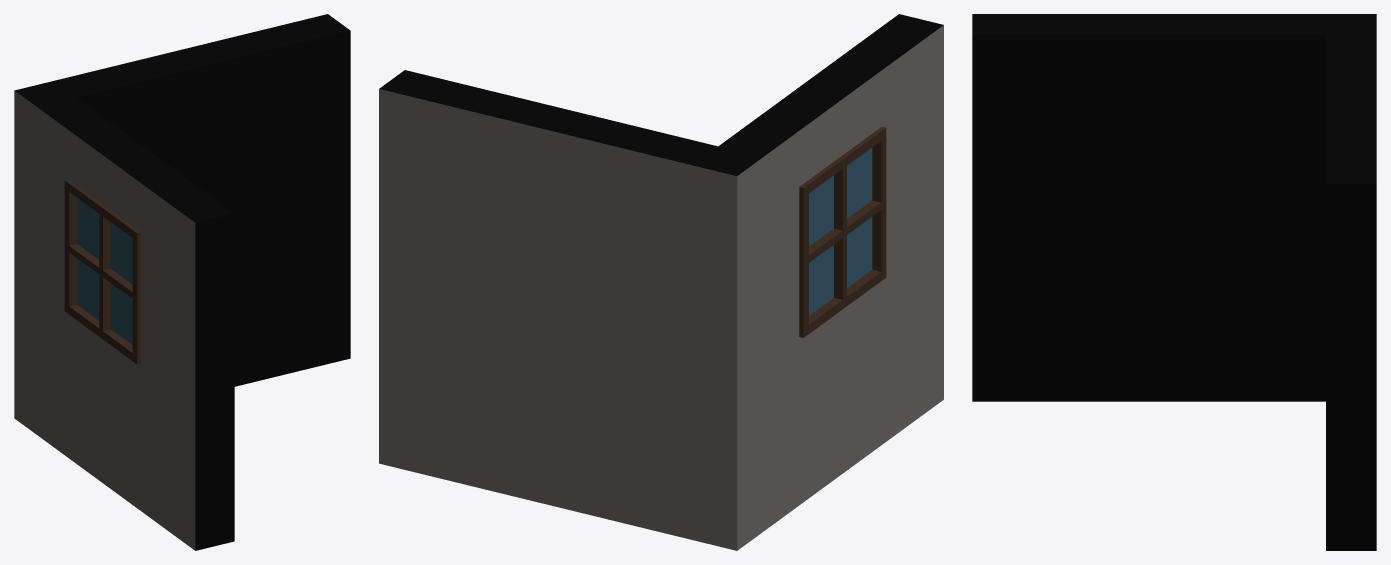
3 renders of one model, left to right at view 1: azimuth 30°, elevation 25°; view 2: azimuth 150°, elevation 25°; view 3: azimuth 270°, elevation 25°, orthographic. The views are drawn at different scales.
Visible parts, largest first — view 1: floor_wall.017; view 2: floor_wall.017; view 3: floor_wall.017.
Part boxes in pixels (<box>): floor_wall.017: <box>14,14,350,550</box>; floor_wall.017: <box>379,14,943,550</box>; floor_wall.017: <box>972,14,1376,550</box>.
Size of the model in its own units: 203 by 200 by 200.
